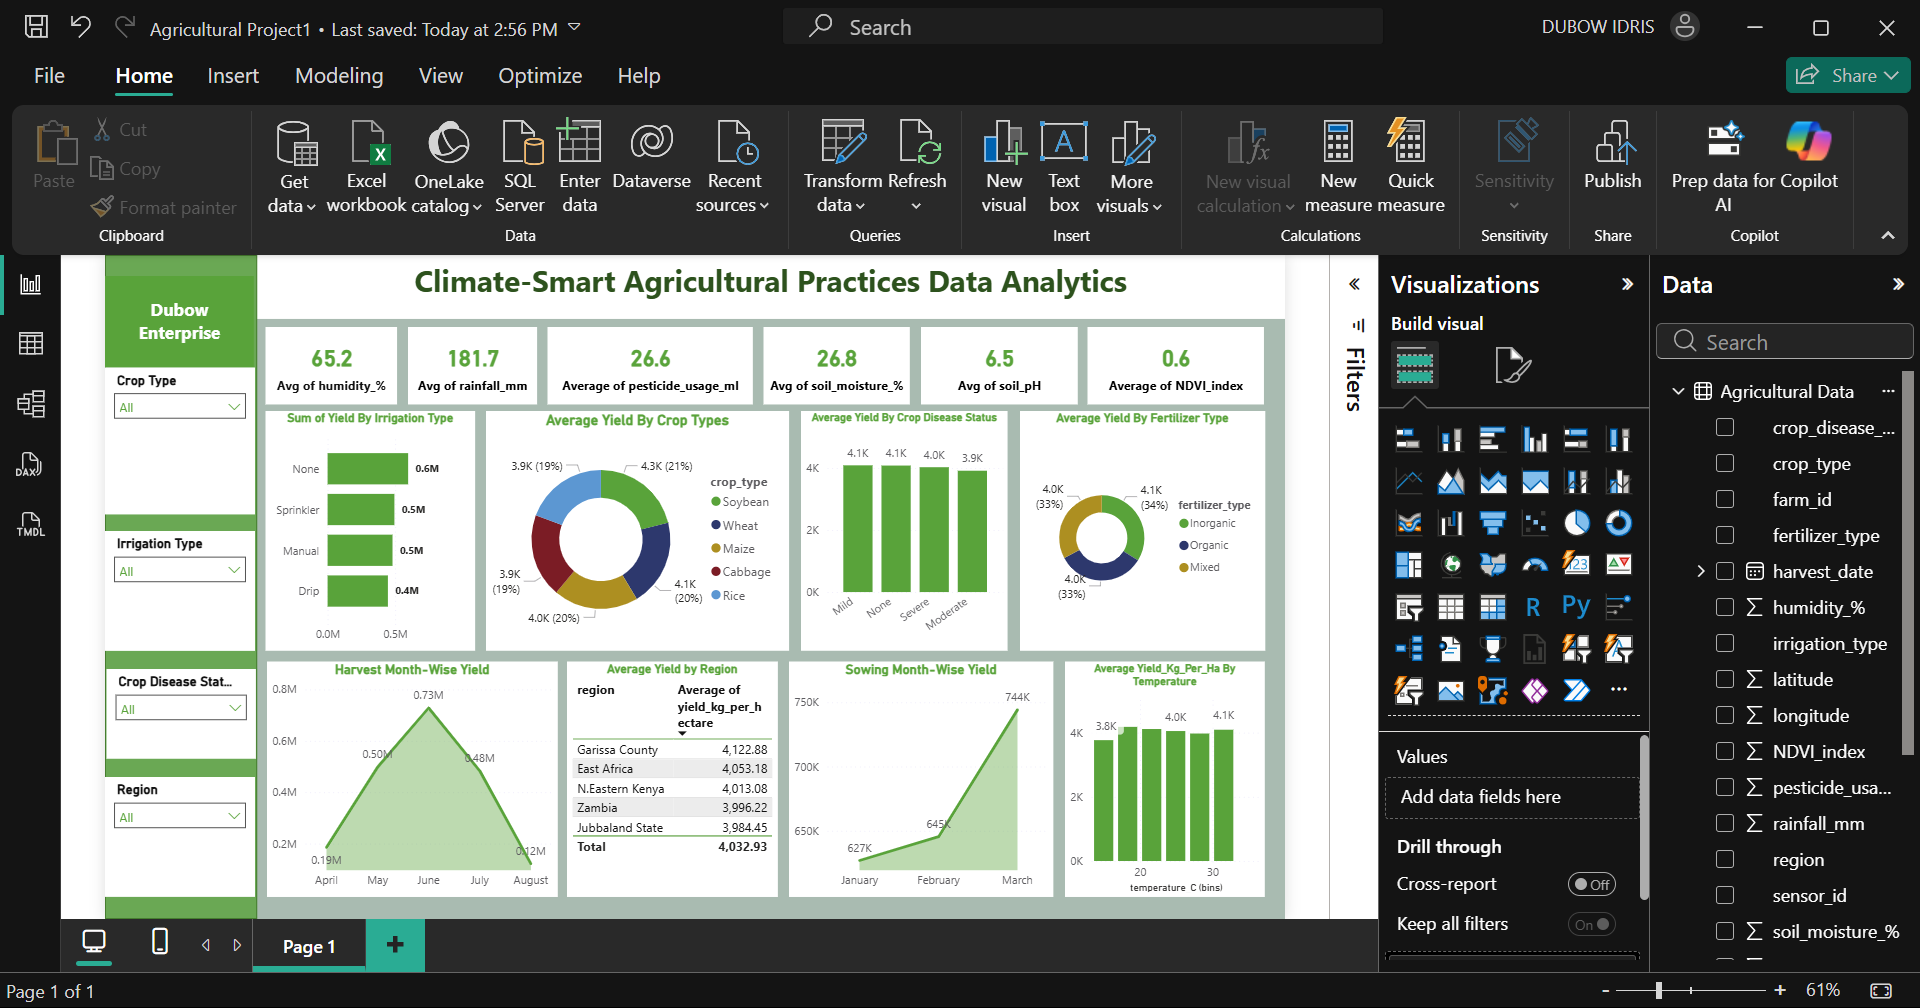

The page's visual inventory and layout, read from the dashboard file:
{"tool":"powerbi","page":{"name":"Page 1","canvas":[1280,720],"ordinal":0},"visuals":[{"type":"textbox","box":[165,0,1115,69],"z":0},{"type":"shape","box":[0,0,165,720],"z":1000},{"type":"card","fields":{"Values":["Avg(Agricultural Data.humidity_%)"]},"box":[174.3,78.6,142.9,84.3],"z":2000},{"type":"card","fields":{"Values":["Avg(Agricultural Data.rainfall_mm)"]},"box":[328.6,78.6,140,84.3],"z":3000},{"type":"card","fields":{"Values":["Avg(Agricultural Data.pesticide_usage_ml)"]},"box":[480,78.6,222.9,84.3],"z":4000},{"type":"card","fields":{"Values":["Avg(Agricultural Data.soil_moisture_%)"]},"box":[714.3,78.6,158.6,84.3],"z":5000},{"type":"card","fields":{"Values":["Avg(Agricultural Data.soil_pH)"]},"box":[884.3,78.6,170,84.3],"z":6000},{"type":"card","fields":{"Values":["Avg(Agricultural Data.NDVI_index)"]},"box":[1065.7,78.6,191.4,84.3],"z":7000},{"type":"card","fields":{"Values":["Avg(Agricultural Data.yield_kg_per_hectare)"]},"box":[1,104,162,120],"z":8000},{"type":"columnChart","title":"Average Yield By Crop Disease Status","fields":{"Category":["Agricultural Data.crop_disease_status"],"Y":["Avg(Agricultural Data.yield_kg_per_hectare)"]},"box":[754.8,168.6,224.3,260],"z":9000},{"type":"donutChart","title":"Average Yield By Crop Types","fields":{"Category":["Agricultural Data.crop_type"],"Y":["Avg(Agricultural Data.yield_kg_per_hectare)"]},"box":[413.8,168.6,328.6,260],"z":10000},{"type":"donutChart","title":"Average Yield By Fertilizer Type","fields":{"Category":["Agricultural Data.fertilizer_type"],"Y":["Avg(Agricultural Data.yield_kg_per_hectare)"]},"box":[991.4,168.6,265.7,260],"z":11000},{"type":"barChart","title":"Sum of Yield By Irrigation Type","fields":{"Category":["Agricultural Data.irrigation_type"],"Y":["Sum(Agricultural Data.yield_kg_per_hectare)"]},"box":[174.3,168.6,227.1,260],"z":12000},{"type":"tableEx","title":"Average Yield by Region","fields":{"Values":["Agricultural Data.region","Avg(Agricultural Data.yield_kg_per_hectare)"]},"box":[501.7,440,228.3,255],"z":13000},{"type":"areaChart","title":"Harvest Month-Wise Yield","fields":{"Category":["Agricultural Data.harvest_date.Variation.Date Hierarchy.Month"],"Y":["Sum(Agricultural Data.yield_kg_per_hectare)"]},"box":[175,440,315,255],"z":14000},{"type":"areaChart","title":"Sowing Month-Wise Yield","fields":{"Y":["Sum(Agricultural Data.yield_kg_per_hectare)"],"Category":["Agricultural Data.sowing_date.Variation.Date Hierarchy.Month"]},"box":[741.7,440,286.7,255],"z":15000},{"type":"lineClusteredColumnComboChart","title":"Average Yield_Kg_Per_Ha By Temperature","fields":{"Category":["Agricultural Data.temperature_C (bins)"],"Y":["Avg(Agricultural Data.yield_kg_per_hectare)"]},"box":[1041.7,440,216.7,255],"z":16000},{"type":"slicer","fields":{"Values":["Agricultural Data.crop_type"]},"box":[0.5,252,162,80],"z":17000},{"type":"slicer","fields":{"Values":["Agricultural Data.irrigation_type"]},"box":[2,353,162,80],"z":18000},{"type":"slicer","fields":{"Values":["Agricultural Data.crop_disease_status"]},"box":[1.5,449,162,97],"z":19000},{"type":"slicer","fields":{"Values":["Agricultural Data.region"]},"box":[0,566,162,96],"z":20000},{"type":"textbox","box":[0,22,161.6,98.5],"z":21000}]}

Visuals, with their boxes on the page's 1280x720 design canvas (x1, y1, x2, y2). These are canvas units, not pixel positions in the 1920x1008 screenshot, which may show the page scaled, cropped or inside an application window:
textbox: <bbox>165, 0, 1280, 69</bbox>
shape: <bbox>0, 0, 165, 720</bbox>
card - Avg(Agricultural Data.humidity_%): <bbox>174, 79, 317, 163</bbox>
card - Avg(Agricultural Data.rainfall_mm): <bbox>329, 79, 469, 163</bbox>
card - Avg(Agricultural Data.pesticide_usage_ml): <bbox>480, 79, 703, 163</bbox>
card - Avg(Agricultural Data.soil_moisture_%): <bbox>714, 79, 873, 163</bbox>
card - Avg(Agricultural Data.soil_pH): <bbox>884, 79, 1054, 163</bbox>
card - Avg(Agricultural Data.NDVI_index): <bbox>1066, 79, 1257, 163</bbox>
card - Avg(Agricultural Data.yield_kg_per_hectare): <bbox>1, 104, 163, 224</bbox>
"Average Yield By Crop Disease Status" columnChart: <bbox>755, 169, 979, 429</bbox>
"Average Yield By Crop Types" donutChart: <bbox>414, 169, 742, 429</bbox>
"Average Yield By Fertilizer Type" donutChart: <bbox>991, 169, 1257, 429</bbox>
"Sum of Yield By Irrigation Type" barChart: <bbox>174, 169, 401, 429</bbox>
"Average Yield by Region" tableEx: <bbox>502, 440, 730, 695</bbox>
"Harvest Month-Wise Yield" areaChart: <bbox>175, 440, 490, 695</bbox>
"Sowing Month-Wise Yield" areaChart: <bbox>742, 440, 1028, 695</bbox>
"Average Yield_Kg_Per_Ha By Temperature" lineClusteredColumnComboChart: <bbox>1042, 440, 1258, 695</bbox>
slicer - Agricultural Data.crop_type: <bbox>0, 252, 162, 332</bbox>
slicer - Agricultural Data.irrigation_type: <bbox>2, 353, 164, 433</bbox>
slicer - Agricultural Data.crop_disease_status: <bbox>2, 449, 164, 546</bbox>
slicer - Agricultural Data.region: <bbox>0, 566, 162, 662</bbox>
textbox: <bbox>0, 22, 162, 120</bbox>
